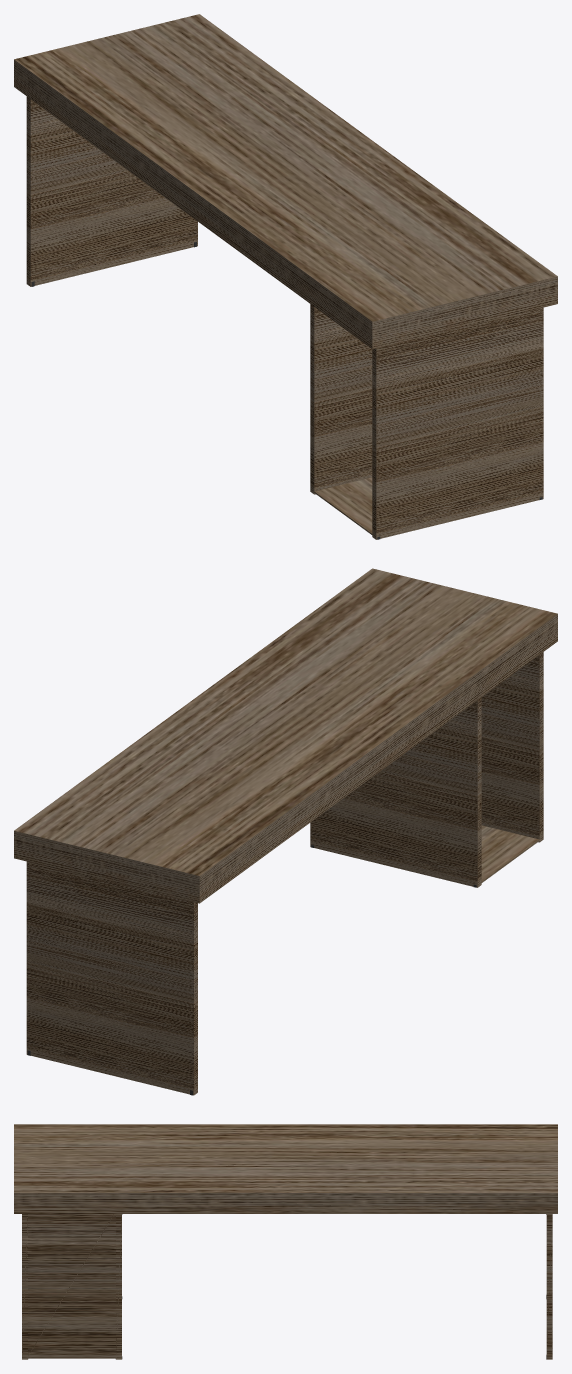
The model's file is Desk.obj.
The picture shows the model from 3 angles, top to bottom: view 1: azimuth 30°, elevation 25°; view 2: azimuth 150°, elevation 25°; view 3: azimuth 270°, elevation 25°; orthographic projection. The views are drawn at different scales.
Visible parts, largest first — view 1: Desk_Cube; view 2: Desk_Cube; view 3: Desk_Cube.
Boxes of the visible parts, x1=… form: Desk_Cube: x1=14, y1=14, x2=557, y2=539; Desk_Cube: x1=14, y1=568, x2=557, y2=1095; Desk_Cube: x1=14, y1=1124, x2=557, y2=1359.
Size of the model in its own units: 1.19 by 1.38 by 3.98.
Materials: 2 (2 with a texture image).
